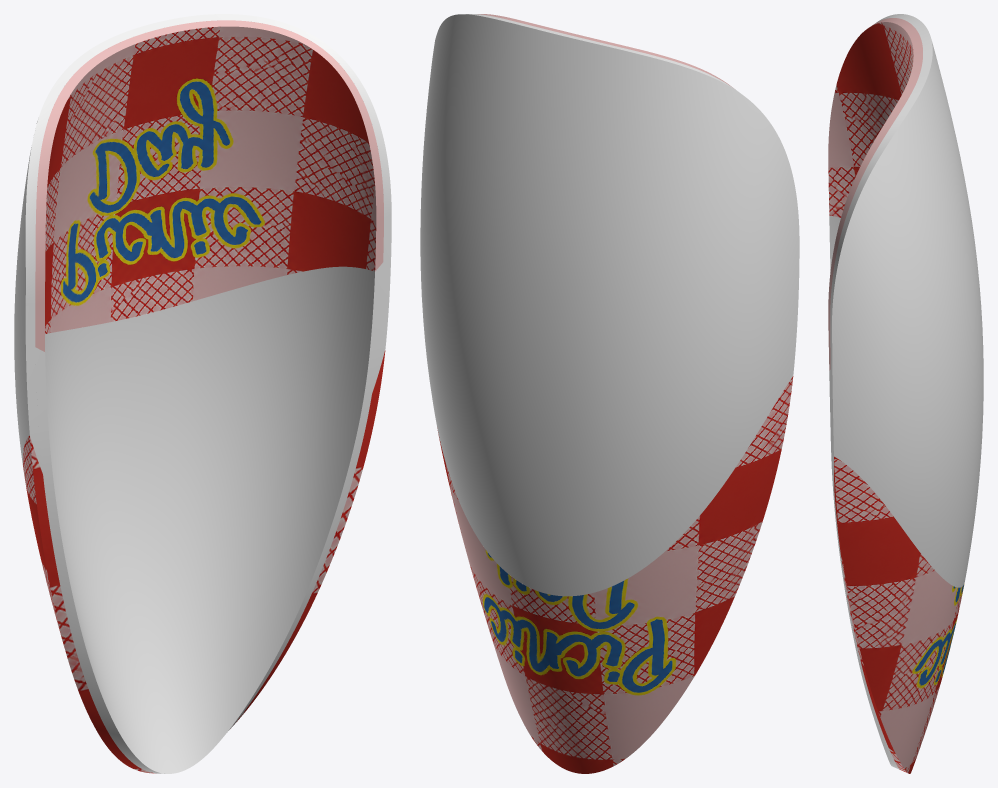
The model's file is spec-l.obj.
The picture shows the model from 3 angles, left to right: view 1: azimuth 30°, elevation 25°; view 2: azimuth 150°, elevation 25°; view 3: azimuth 270°, elevation 25°; orthographic projection. The views are drawn at different scales.
Size of the model in its own units: 12.39 by 23.96 by 4.71.
Materials: 4 (2 with a texture image).
